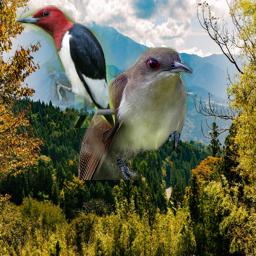Cuckoo: (78, 47, 193, 180)
Woodpecker: (16, 5, 115, 128)
